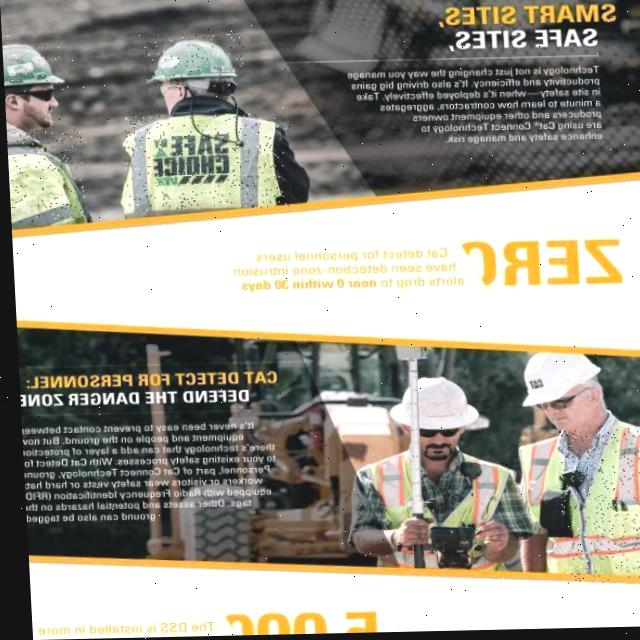Gloves: (533, 494, 568, 540)
Helmet: (383, 377, 475, 433), (516, 353, 600, 409), (144, 38, 238, 85), (2, 41, 67, 91)
No-Glove: (388, 517, 427, 551)
Safety-Vest: (354, 448, 531, 573), (512, 414, 640, 582), (118, 109, 287, 217)
